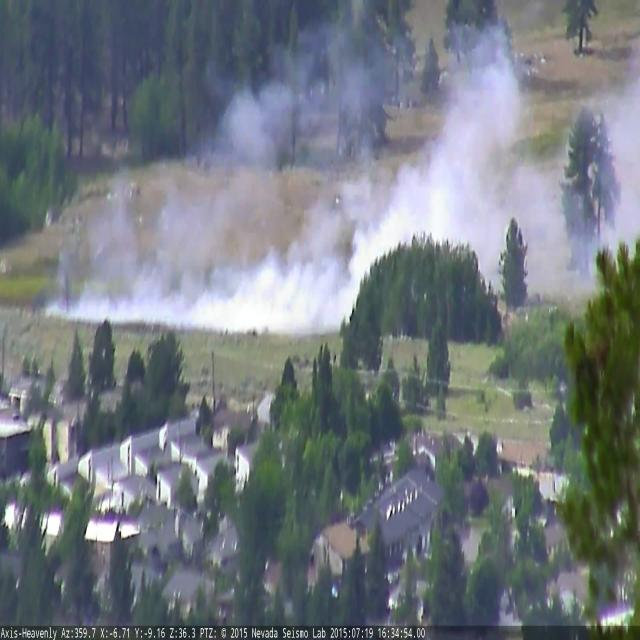smoke: (47, 28, 640, 336)
